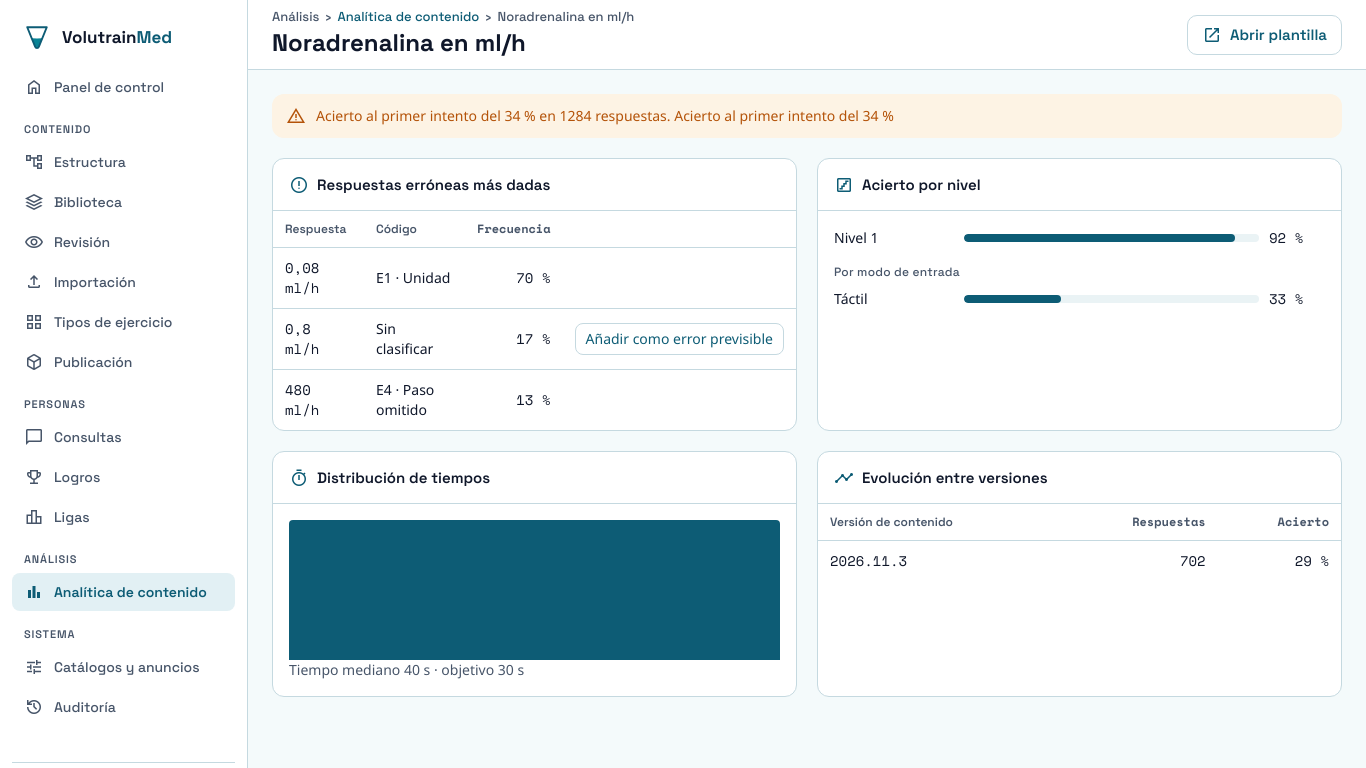
Test: B21–B22 · analítica de contenido › Error frecuente sin clasificar: el administrador puede añadirla como error previsible desde la ficha de analítica
The width and height of the screenshot is (1366, 768).
Click the button "Añadir como error previsible".
click(679, 339)  # box [574,323,784,355]
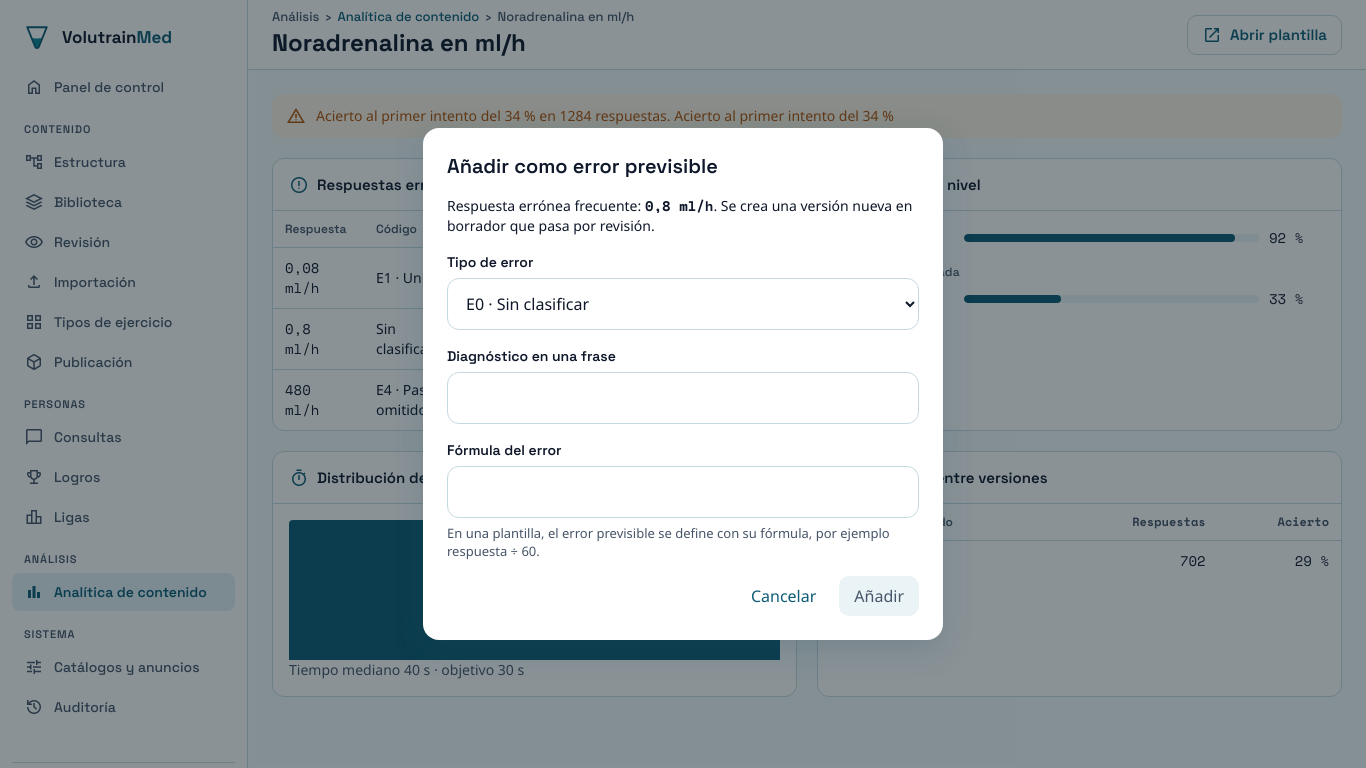
Select "E1 · Unidad" in the dropdown labelled "Tipo de error" at point(683, 304), box [447,278,919,330]
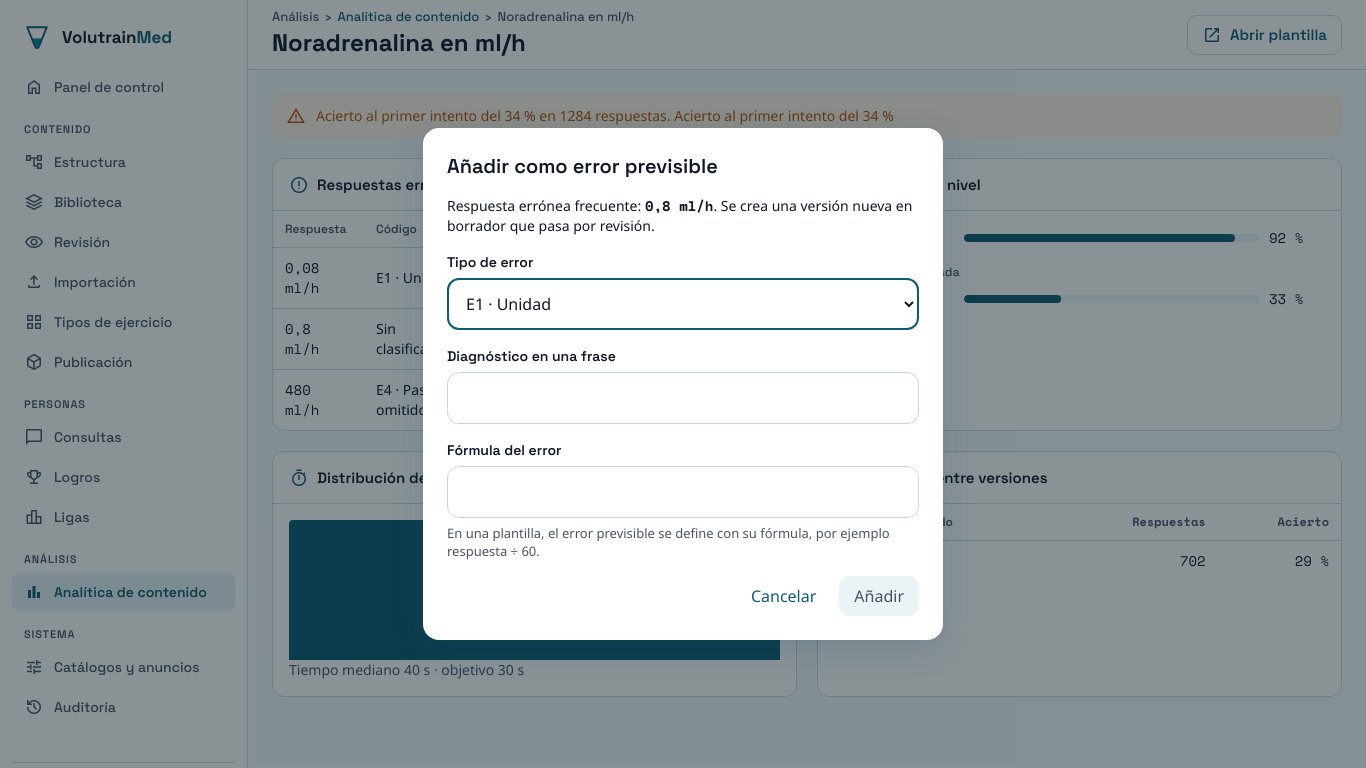
Type "Has dejado el ritmo en minutos: falta pasar a horas" into the field labelled "Diagnóstico en una frase".
click(683, 398); type("Has dejado el ritmo en minutos: falta pasar a horas")  # box [447,372,919,424]
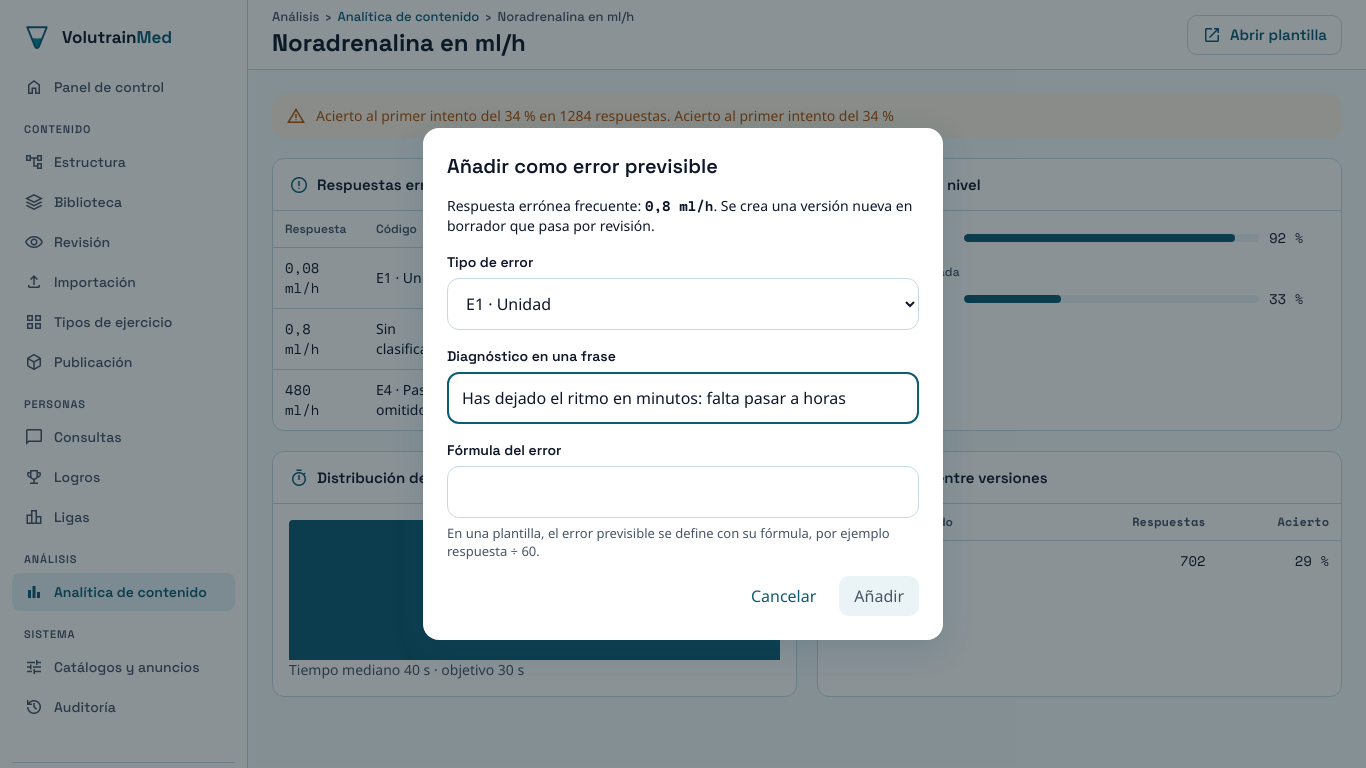
Type "respuesta ÷ 6" into the field labelled "Fórmula del error".
click(683, 492); type("respuesta ÷ 6")  # box [447,466,919,518]
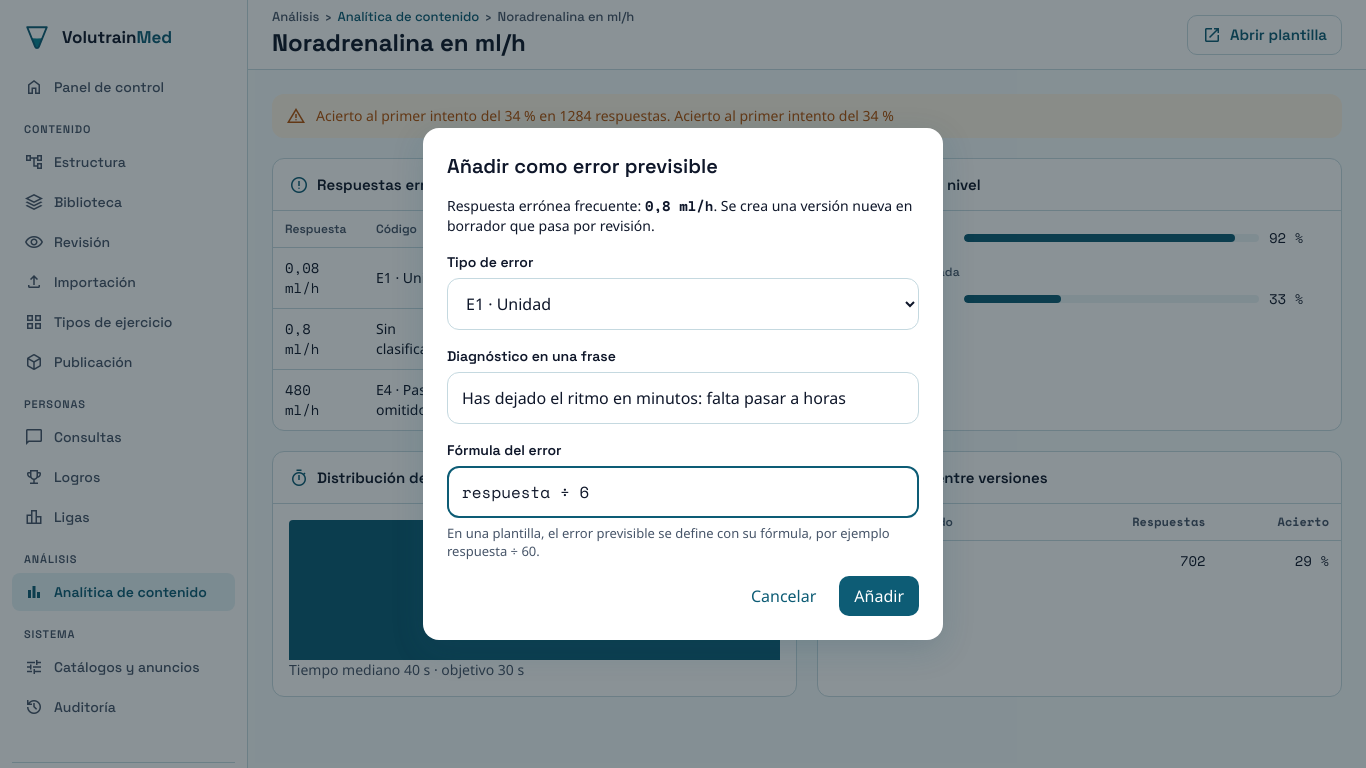
Click the button "Añadir".
click(879, 596)  # box [839,576,919,616]
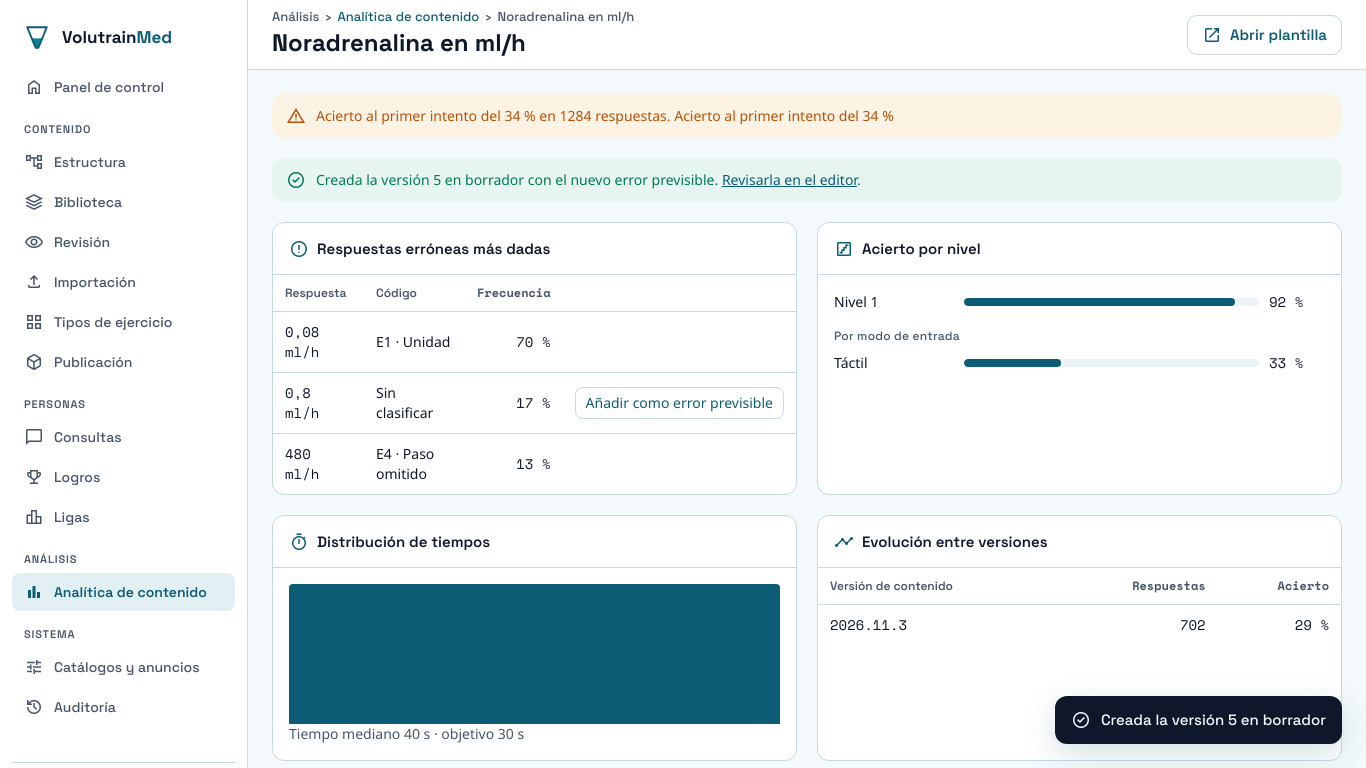
Check: the text "Creada la versión 5 en borrador con el nuevo error previsible" is shown, box [316,170,861,189]
